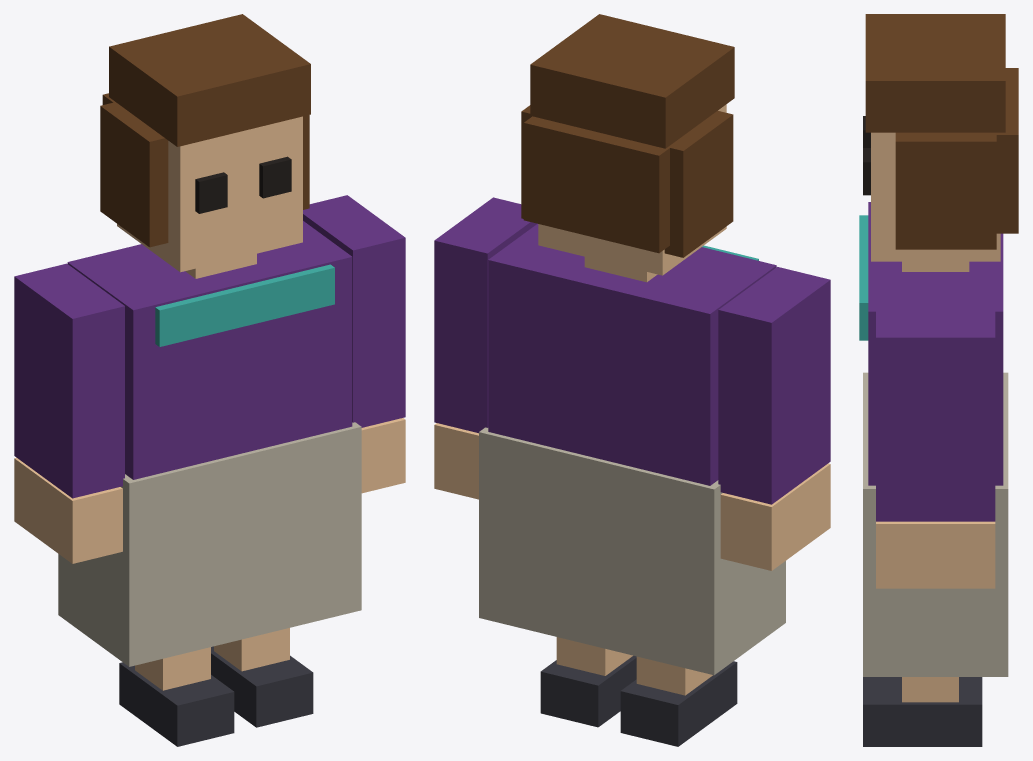
Rendered from people__officeWoman.glb.
3 views of the same model, side by side, from view 1: azimuth 30°, elevation 25°; view 2: azimuth 150°, elevation 25°; view 3: azimuth 270°, elevation 25° (orthographic). The views are drawn at different scales.
Visible parts, largest first — view 1: people__officeWoman, rig_armL, rig_armR, rig_legL, rig_legR; view 2: people__officeWoman, rig_armL, rig_armR, rig_legL, rig_legR; view 3: people__officeWoman, rig_armR, rig_legR.
Boxes of the visible parts, bbox=[...] form: people__officeWoman: bbox=[58, 14, 361, 666]; rig_armL: bbox=[14, 263, 124, 563]; rig_armR: bbox=[303, 195, 405, 493]; rig_legL: bbox=[119, 647, 234, 746]; rig_legR: bbox=[211, 628, 313, 727]; people__officeWoman: bbox=[479, 14, 785, 675]; rig_armL: bbox=[718, 267, 830, 570]; rig_armR: bbox=[434, 197, 536, 499]; rig_legL: bbox=[620, 656, 737, 746]; rig_legR: bbox=[540, 637, 636, 727]; people__officeWoman: bbox=[859, 14, 1018, 676]; rig_armR: bbox=[876, 311, 995, 588]; rig_legR: bbox=[863, 677, 982, 746].
Size of the model in its own units: 1.52 by 2.83 by 0.615.
